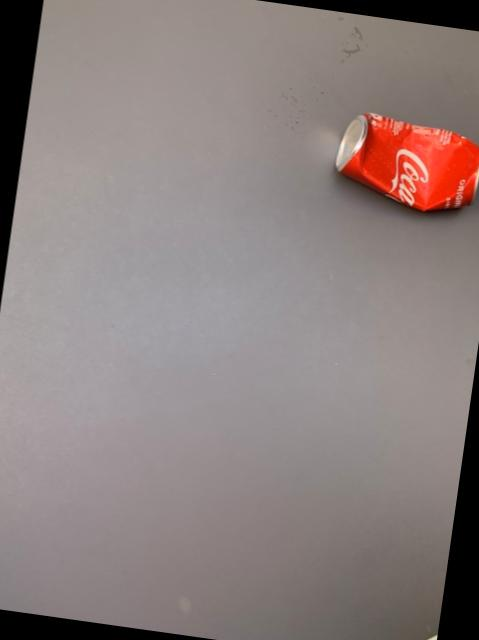metal: (336, 114, 479, 212)
